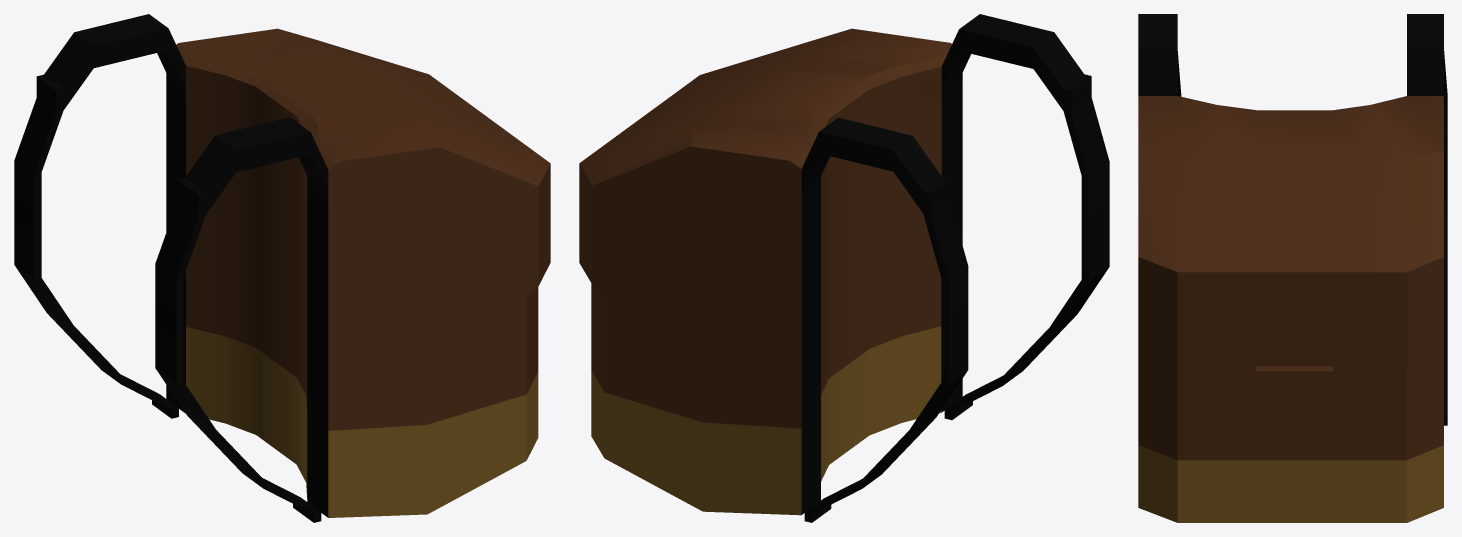
The model's file is backpack.fbx.
The picture shows the model from 3 angles, left to right: view 1: azimuth 30°, elevation 25°; view 2: azimuth 150°, elevation 25°; view 3: azimuth 270°, elevation 25°; orthographic projection. The views are drawn at different scales.
Parts seen in each view (by area): view 1: Cube; view 2: Cube; view 3: Cube.
Part boxes in pixels (box(x1,y1,x2,y2)): Cube: box(14, 14, 550, 522); Cube: box(579, 14, 1109, 522); Cube: box(1138, 14, 1447, 522).
Bounding box in the file's own units: 280 × 280 × 202.
